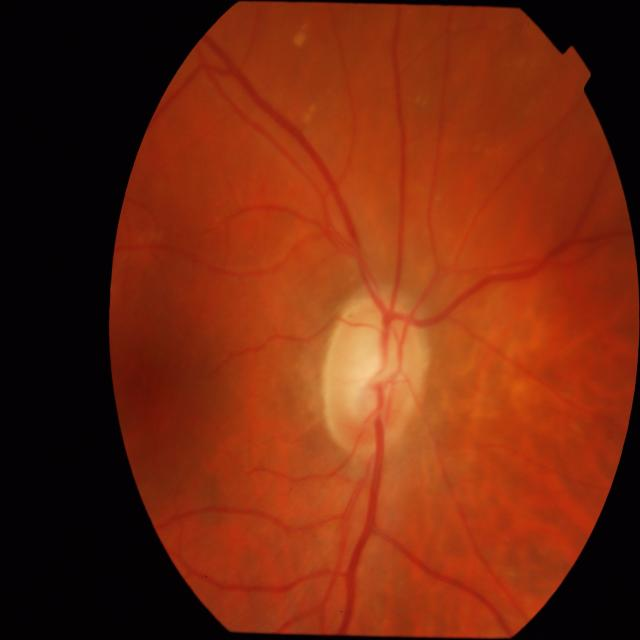OC: (335, 310, 412, 428)
OD: (322, 294, 426, 454)
